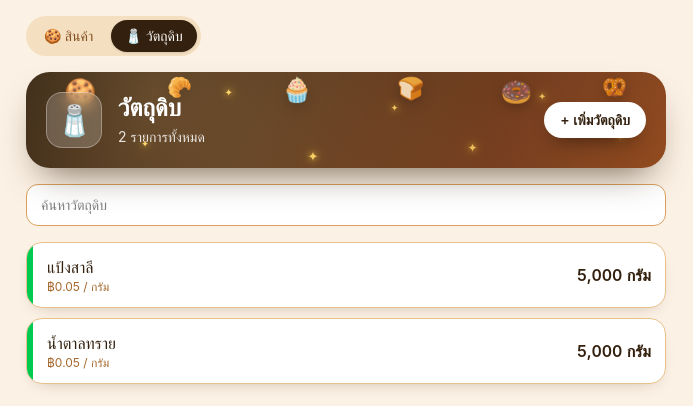
Test case: IngredientsPage › ค้นหาชื่อวัตถุดิบ กรองรายการที่ไม่ตรงออกไป
This screenshot has width=693, height=406.
Type "น้ำตาล" into the field with placeholder "ค้นหาวัตถุดิบ" at (346, 205), box [26,184,666,226]
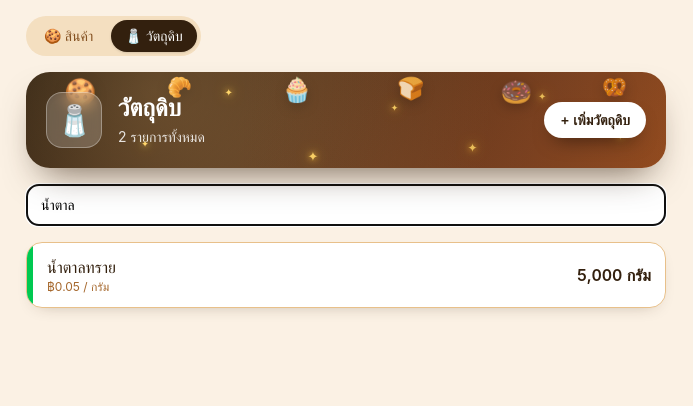
Check: the text "น้ำตาลทราย" is shown, box [47,255,116,279]
Check: the link "แป้งสาลี" is gone
